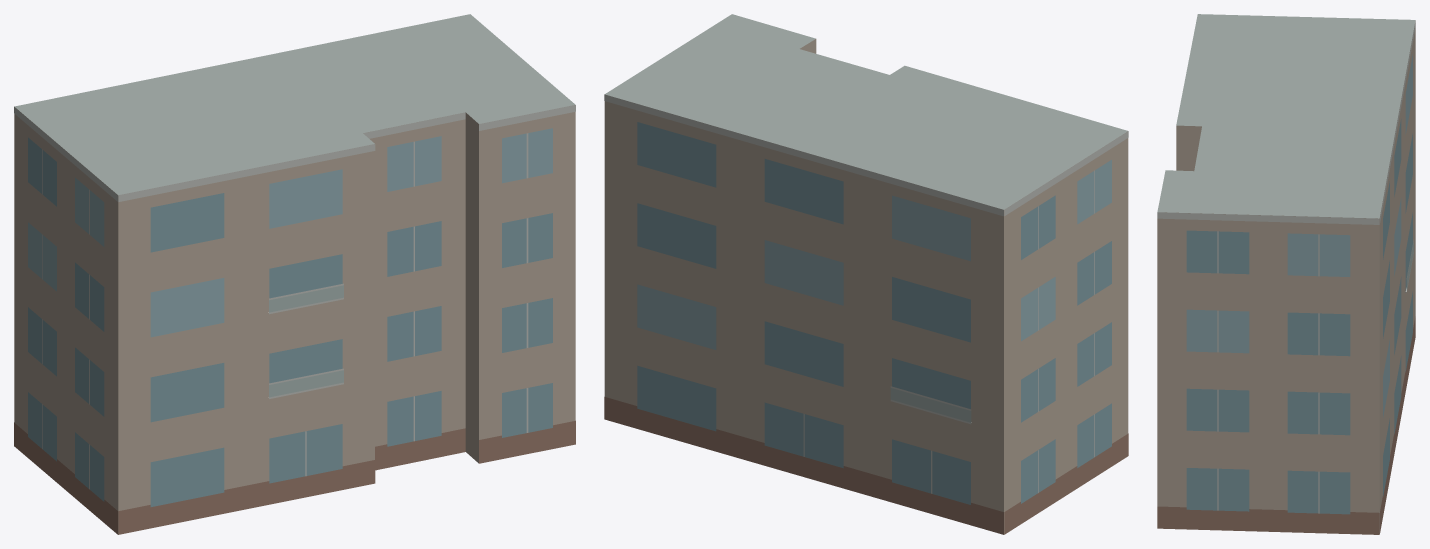
File: survey-upis-33016534.glb
3 renders of one model, left to right at view 1: azimuth 30°, elevation 25°; view 2: azimuth 150°, elevation 25°; view 3: azimuth 270°, elevation 25°, orthographic. The views are drawn at different scales.
Visible parts, largest first — view 1: survey-upis-33016534.tmp; view 2: survey-upis-33016534.tmp; view 3: survey-upis-33016534.tmp.
Part boxes in pixels (x1=…): survey-upis-33016534.tmp: x1=14, y1=14, x2=575, y2=534; survey-upis-33016534.tmp: x1=604, y1=14, x2=1128, y2=534; survey-upis-33016534.tmp: x1=1157, y1=14, x2=1415, y2=534.
Size of the model in its own units: 16.51 by 11.9 by 8.82.
